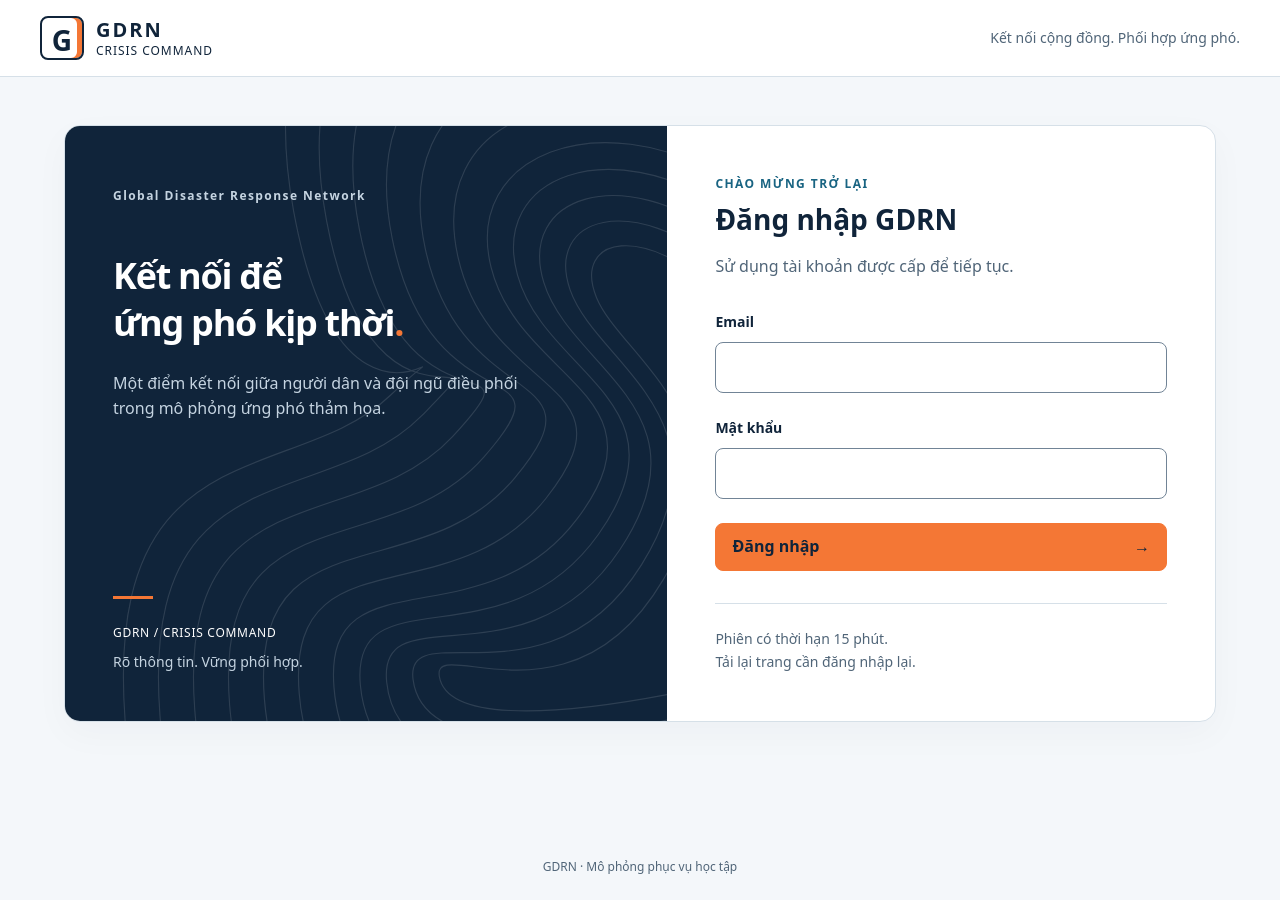
Test case: Login › shows invalid credentials without losing the error during session clear
This screenshot has width=1280, height=900.
Step 1. Type "one@example.test" into the field labelled "Email" → (941, 367), box [715,342,1167,393]
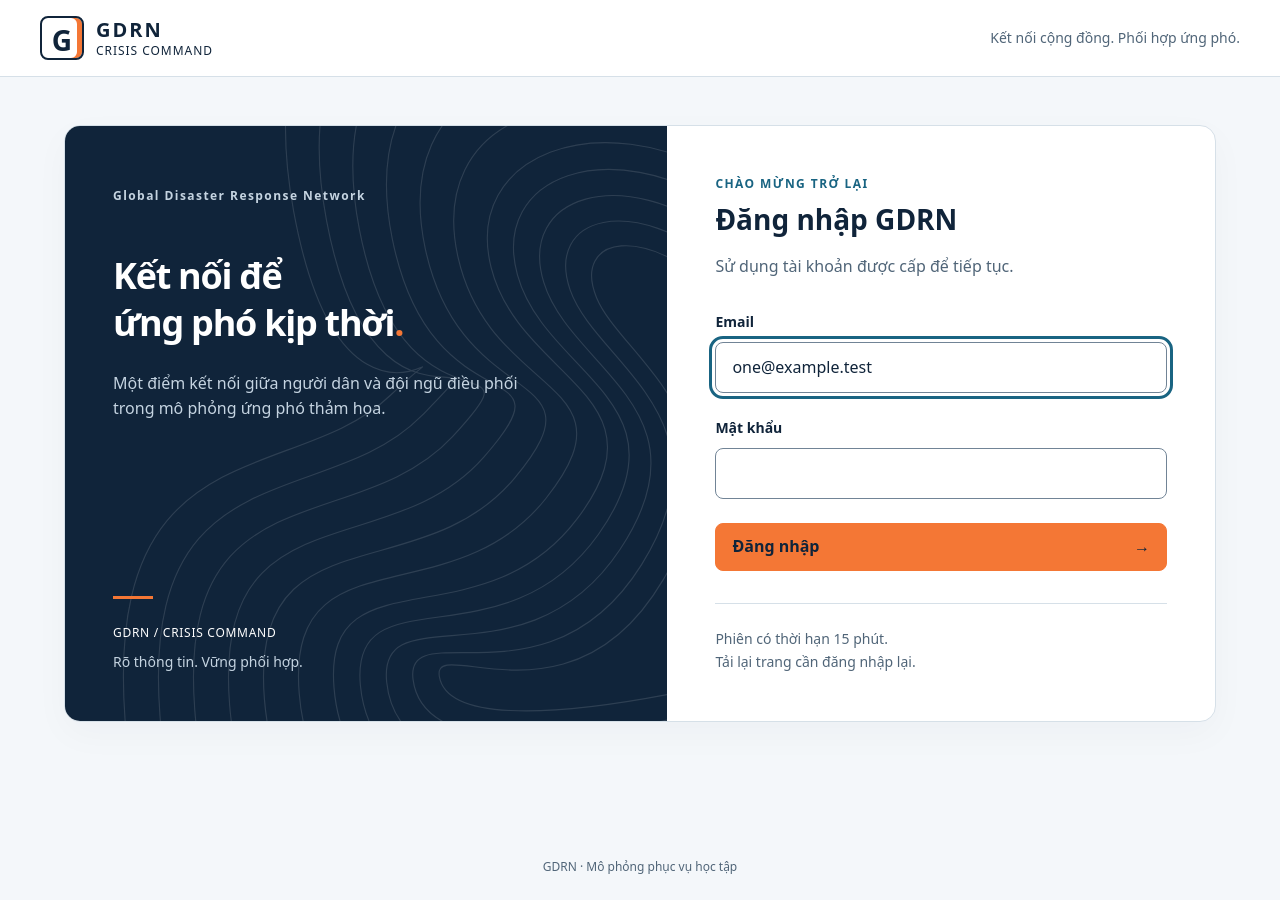
Step 2. Type "test-only-password" into the password field labelled "Mật khẩu" → (941, 473), box [715,448,1167,499]
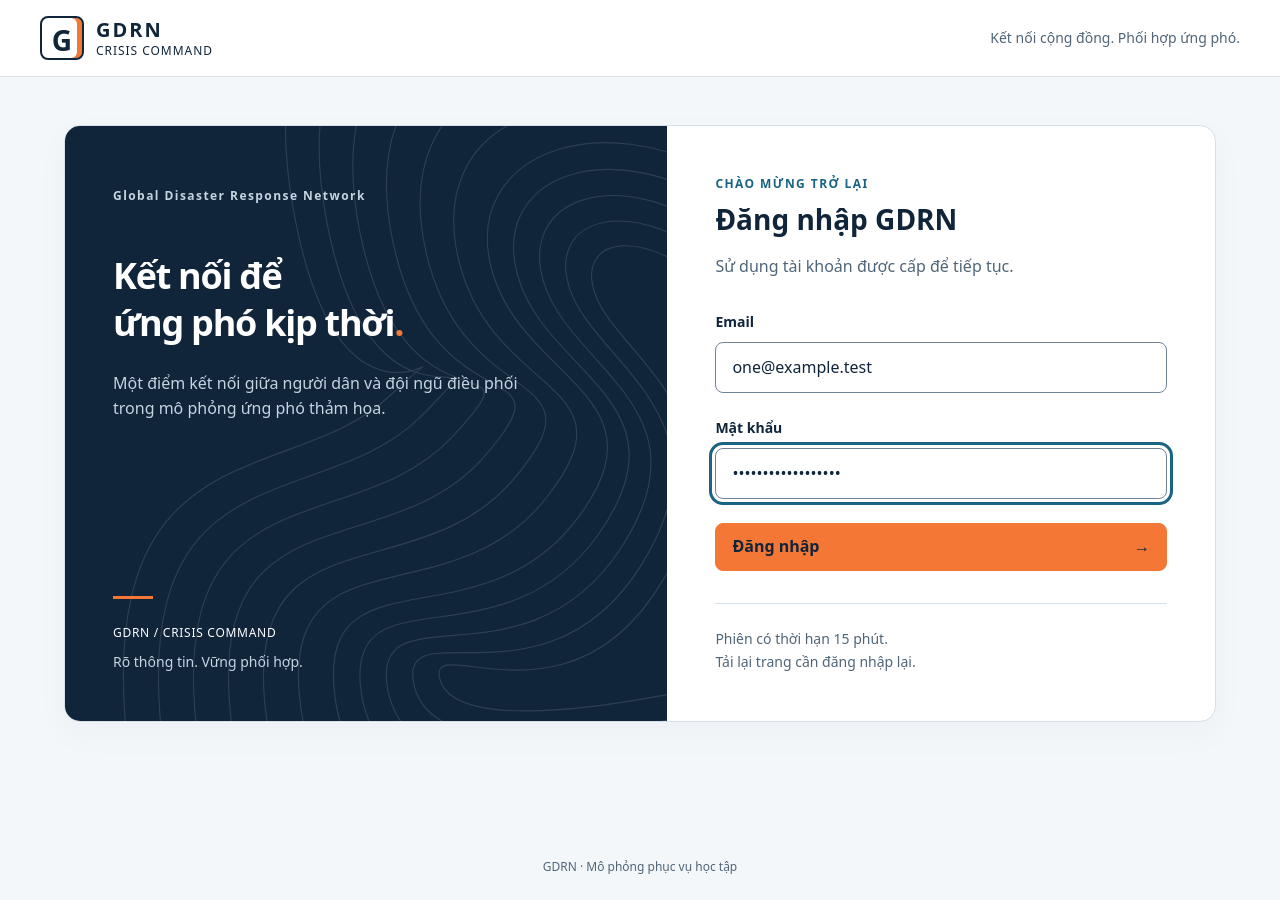
Step 3. Click the button "Đăng nhập →" → (776, 546), box [715,523,1167,571]
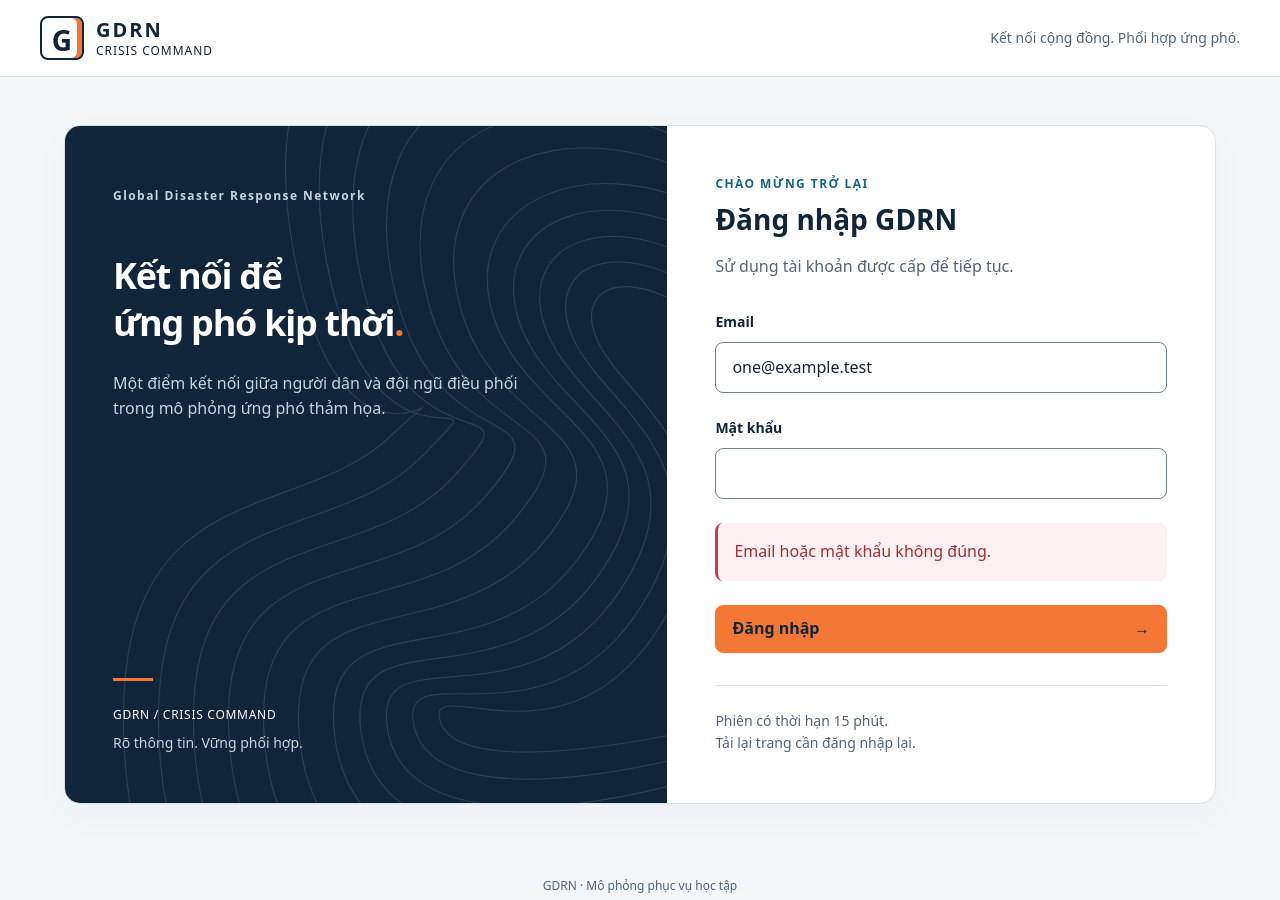
Result: the message reads "Email hoặc mật khẩu không đúng." at [734,540,991,562]
Result: the password field labelled "Mật khẩu" is empty at [715,448,1167,499]
